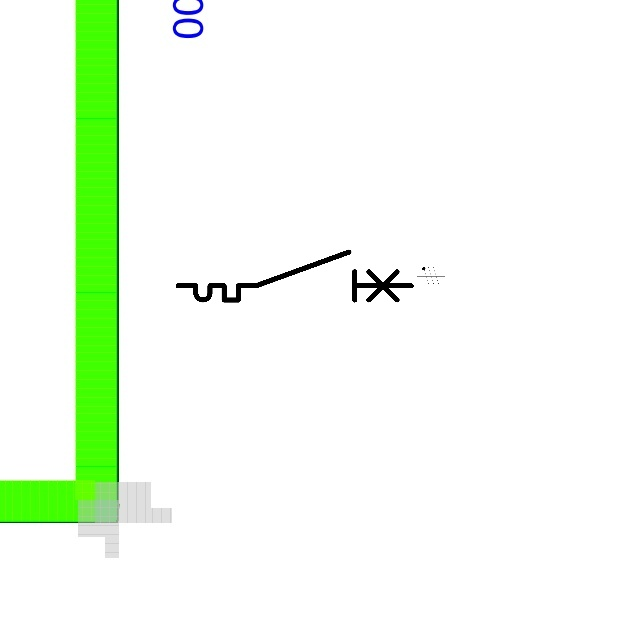interruptor_termomagnetico: (172, 246, 417, 306)
